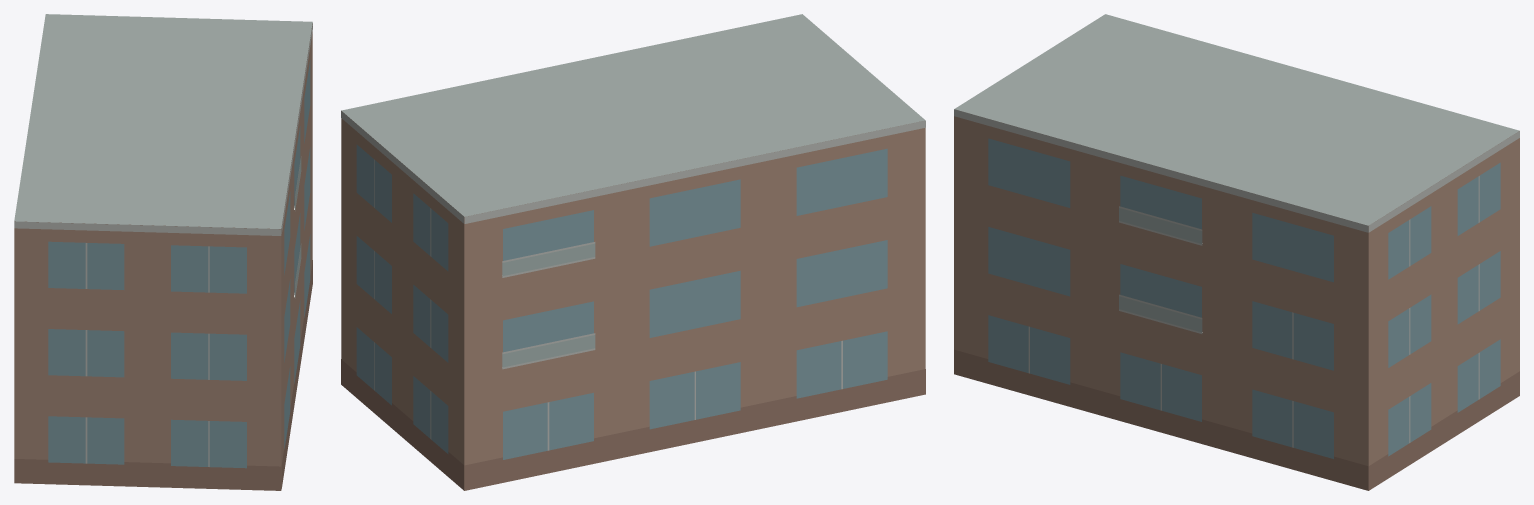
File: survey-upis-32698829.glb
3 views of the same model, side by side, from view 1: azimuth 30°, elevation 25°; view 2: azimuth 150°, elevation 25°; view 3: azimuth 270°, elevation 25° (orthographic). The views are drawn at different scales.
Visible parts, largest first — view 1: survey-upis-32698829.tmp; view 2: survey-upis-32698829.tmp; view 3: survey-upis-32698829.tmp.
Boxes of the visible parts, x1=… form: survey-upis-32698829.tmp: x1=14, y1=14, x2=312, y2=490; survey-upis-32698829.tmp: x1=341, y1=14, x2=925, y2=490; survey-upis-32698829.tmp: x1=954, y1=14, x2=1519, y2=490.
Size of the model in its own units: 15.69 by 9.15 by 17.71.
